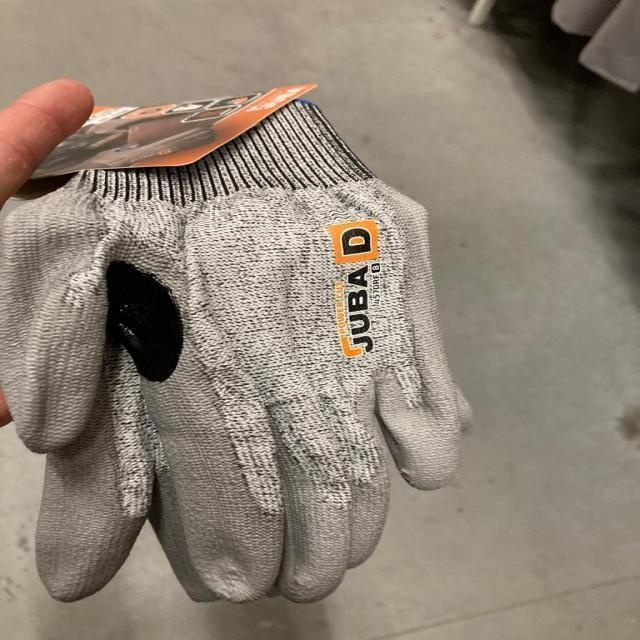Guantes: (0, 85, 473, 606)
